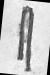S29: (1, 0, 50, 74)
